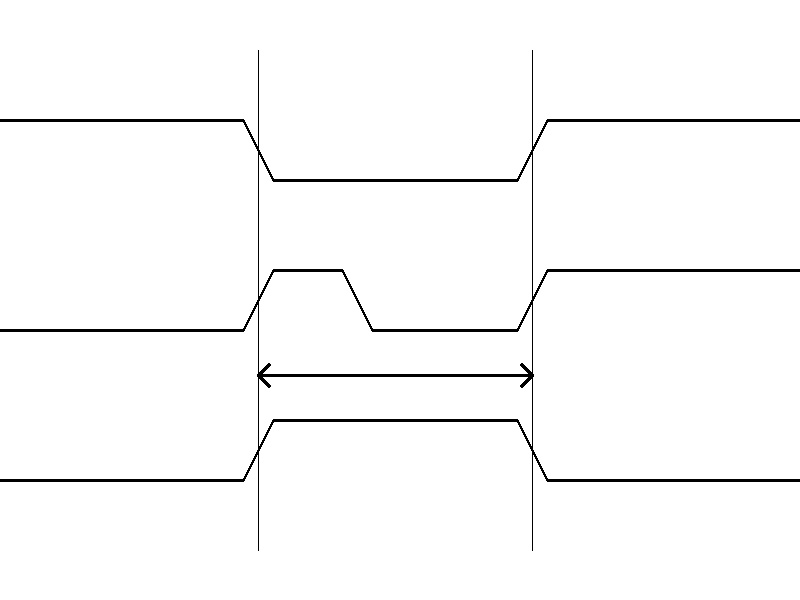double_arrow: (258, 360, 532, 390)
